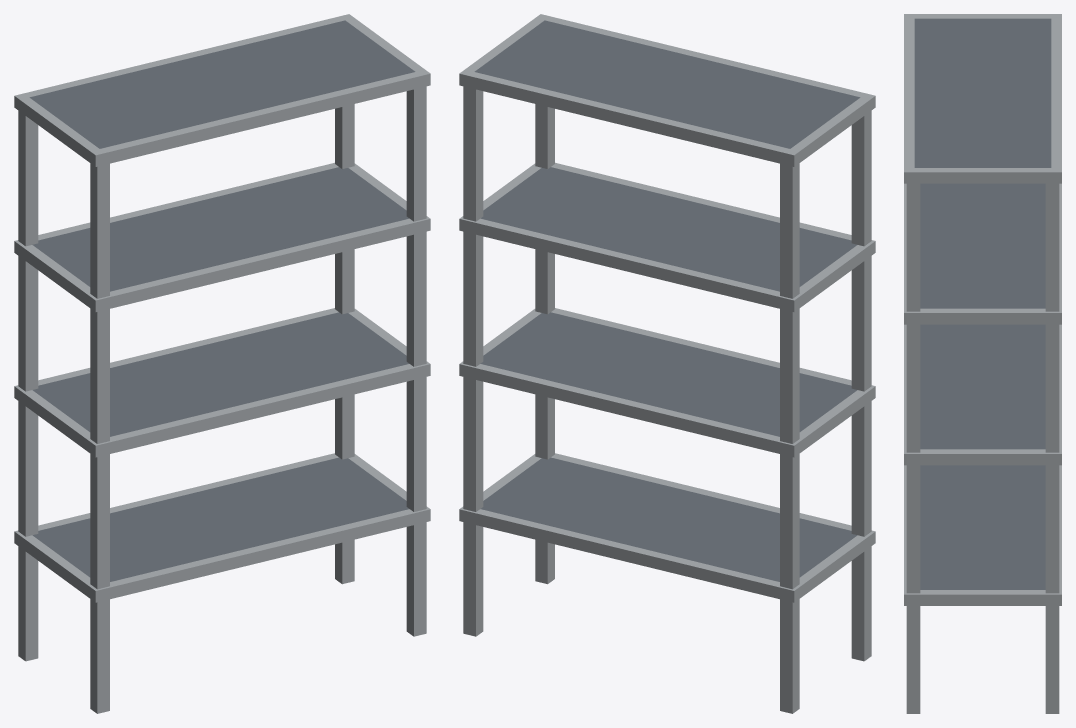
File: Shelf_02.FBX
3 renders of one model, left to right at view 1: azimuth 30°, elevation 25°; view 2: azimuth 150°, elevation 25°; view 3: azimuth 270°, elevation 25°, orthographic. The views are drawn at different scales.
Parts seen in each view (by area): view 1: Shelf_02; view 2: Shelf_02; view 3: Shelf_02.
Part boxes in pixels (x1,y1,x2,y2): Shelf_02: (14, 14, 430, 713); Shelf_02: (459, 14, 875, 713); Shelf_02: (904, 14, 1061, 713).
Bounding box in the file's own units: 121 × 193 × 50.84.
